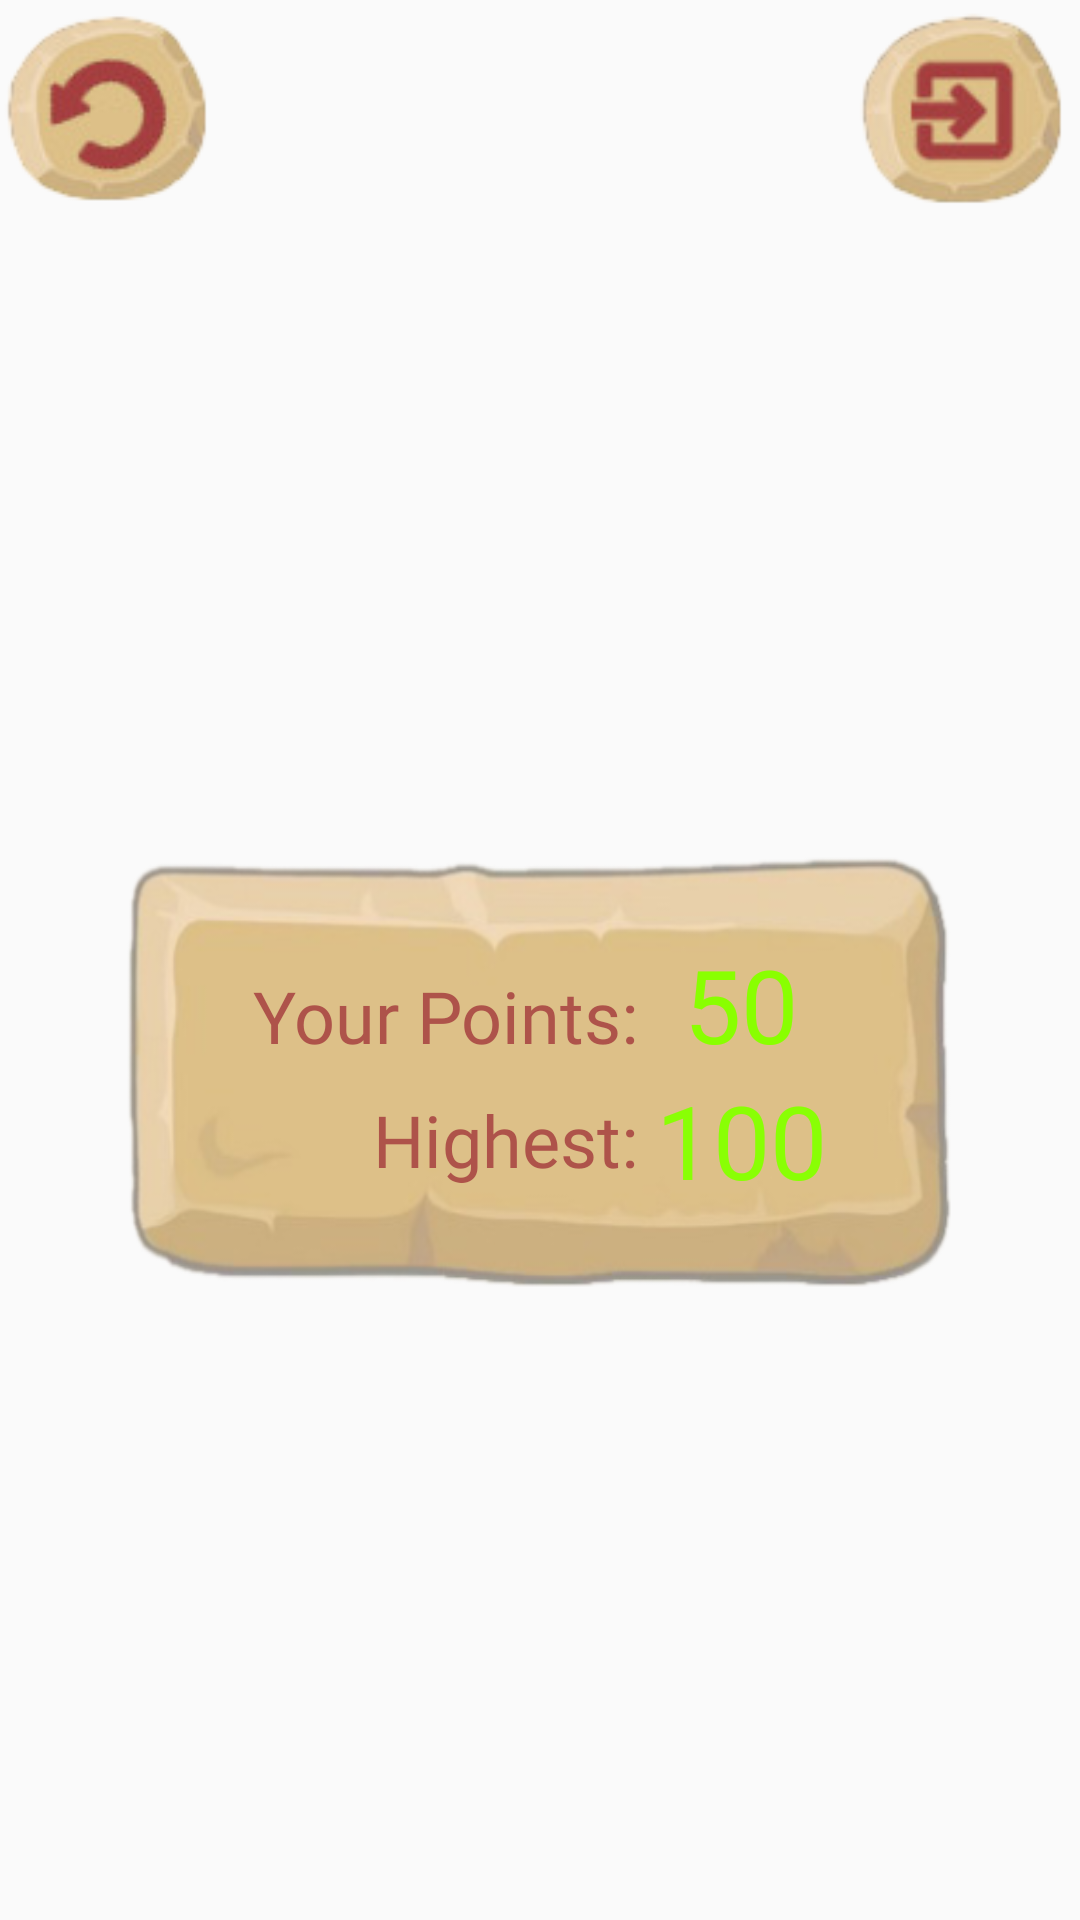

Named icons in this screenshot (1080 × 1920) and their bounding boxes, (x1,y1,x2,y2):
exit: (863,16,1061,203)
restart: (8,16,206,201)
